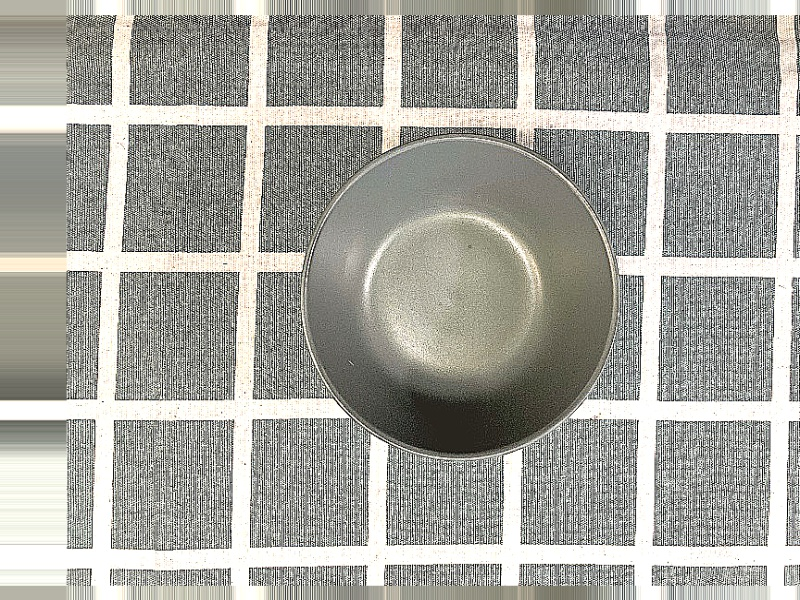bowl_big: (291, 120, 640, 465)
